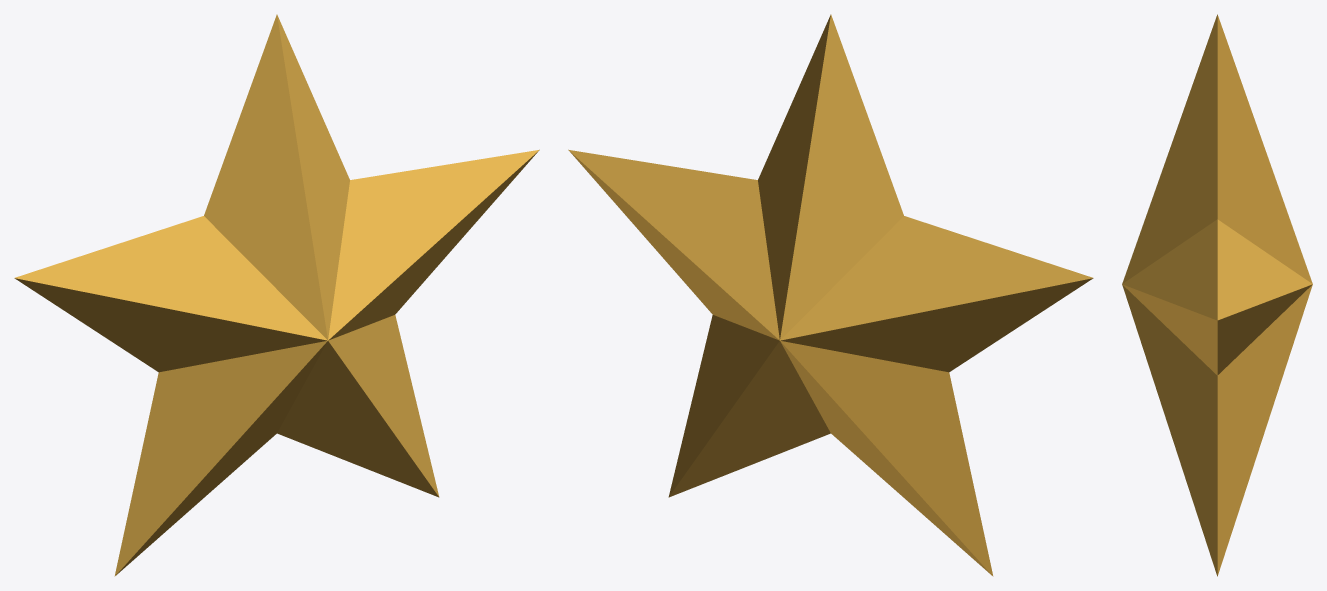
Rendered from star.glb.
3 renders of one model, left to right at view 1: azimuth 30°, elevation 25°; view 2: azimuth 150°, elevation 25°; view 3: azimuth 270°, elevation 25°, orthographic. The views are drawn at different scales.
Visible parts, largest first — view 1: star; view 2: star; view 3: star.
Boxes of the visible parts, bbox=[...] form: star: bbox=[14, 14, 539, 576]; star: bbox=[568, 14, 1093, 576]; star: bbox=[1122, 14, 1312, 576].
Bounding box in the file's own units: 0.0476 × 0.0452 × 0.016.
